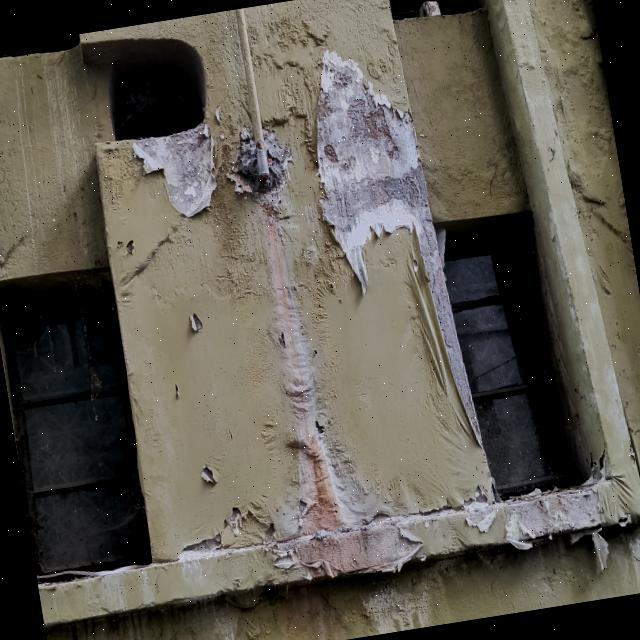peeling: (317, 51, 487, 466), (276, 288, 387, 534), (133, 123, 217, 217), (273, 527, 421, 577), (506, 488, 601, 549), (182, 502, 275, 554), (361, 570, 431, 633), (229, 126, 292, 193)
